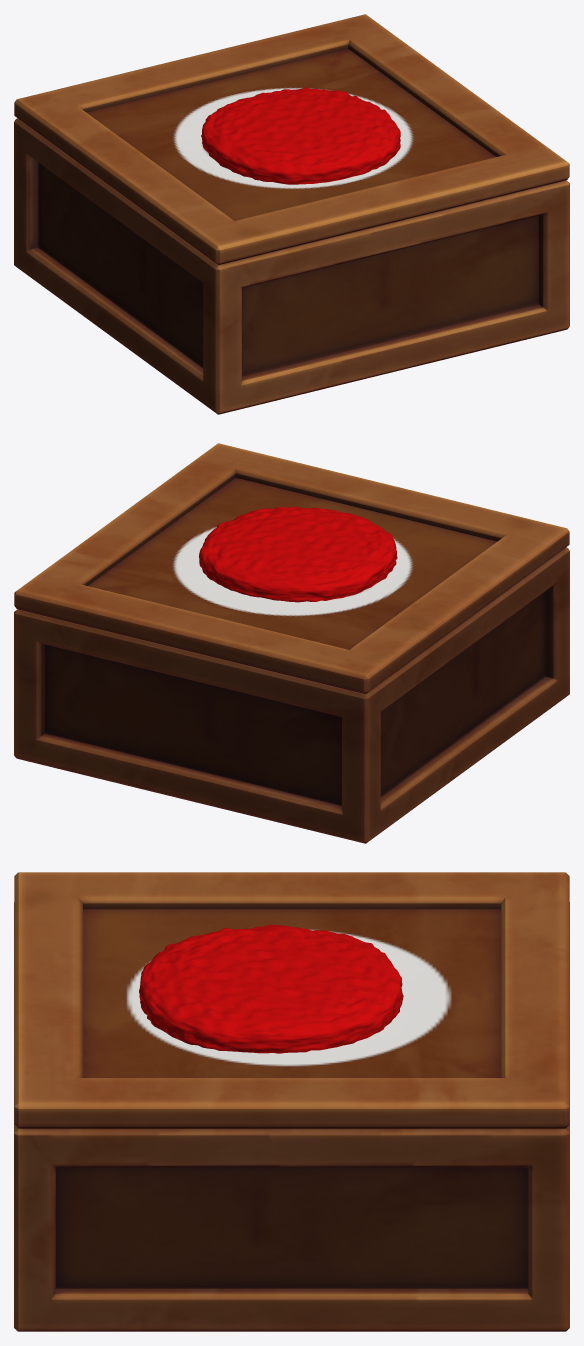
3 views of the same model, one above another, from view 1: azimuth 30°, elevation 25°; view 2: azimuth 150°, elevation 25°; view 3: azimuth 270°, elevation 25° (orthographic). The views are drawn at different scales.
Parts seen in each view (by area): view 1: Ingredients_Box, Ingredients_Box_Lid, Burger_raw.002; view 2: Ingredients_Box, Ingredients_Box_Lid, Burger_raw.002; view 3: Ingredients_Box_Lid, Ingredients_Box, Burger_raw.002.
Part boxes in pixels (<box>): Ingredients_Box: <box>14,118,569,414</box>; Ingredients_Box_Lid: <box>14,14,569,264</box>; Burger_raw.002: <box>201,87,400,184</box>; Ingredients_Box: <box>14,547,569,843</box>; Ingredients_Box_Lid: <box>14,443,569,693</box>; Burger_raw.002: <box>199,506,397,602</box>; Ingredients_Box_Lid: <box>14,872,569,1128</box>; Ingredients_Box: <box>14,902,569,1331</box>; Burger_raw.002: <box>139,924,403,1053</box>.
Size of the model in its own units: 2 by 0.9801 by 2.
2 materials, 1 textured.
